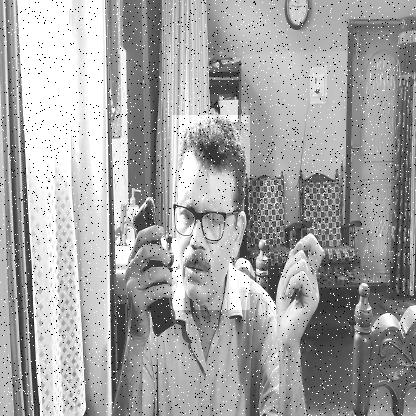Distracted: (172, 115, 250, 310)
